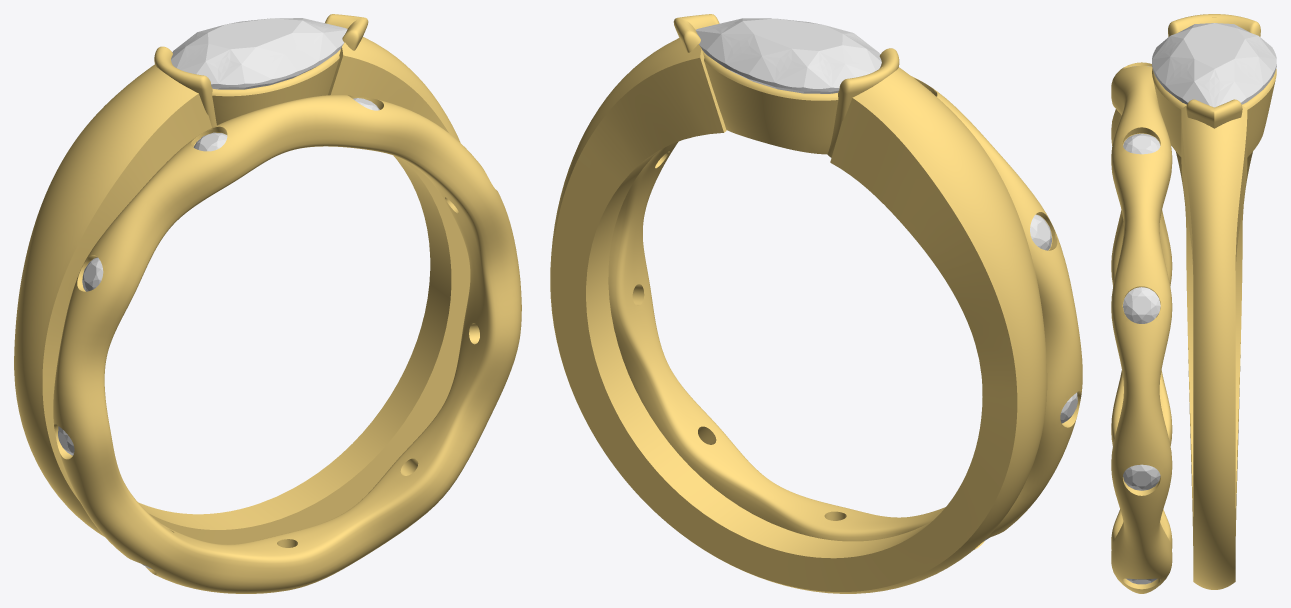
The model's file is PhoebeV2wb_blender.glb.
The picture shows the model from 3 angles, left to right: view 1: azimuth 30°, elevation 25°; view 2: azimuth 150°, elevation 25°; view 3: azimuth 270°, elevation 25°; orthographic projection. The views are drawn at different scales.
Visible parts, largest first — view 1: V2 Phoebe YG for 3d model, V2 Phoebe dia for 3d model.009; view 2: V2 Phoebe YG for 3d model, V2 Phoebe dia for 3d model.009; view 3: V2 Phoebe YG for 3d model, V2 Phoebe dia for 3d model.009, V2 Phoebe dia for 3d model.007, V2 Phoebe dia for 3d model.006, V2 Phoebe dia for 3d model.008.
Boxes of the visible parts, box(x1,y1,x2,y2) form: V2 Phoebe YG for 3d model: box(14, 14, 521, 593); V2 Phoebe dia for 3d model.009: box(171, 18, 347, 89); V2 Phoebe YG for 3d model: box(550, 14, 1082, 593); V2 Phoebe dia for 3d model.009: box(695, 18, 881, 93); V2 Phoebe YG for 3d model: box(1111, 14, 1276, 593); V2 Phoebe dia for 3d model.009: box(1152, 23, 1276, 107); V2 Phoebe dia for 3d model.007: box(1123, 287, 1160, 323); V2 Phoebe dia for 3d model.006: box(1123, 464, 1160, 490); V2 Phoebe dia for 3d model.008: box(1123, 133, 1160, 154).
Size of the model in its own units: 22.58 by 24.59 by 7.04.
